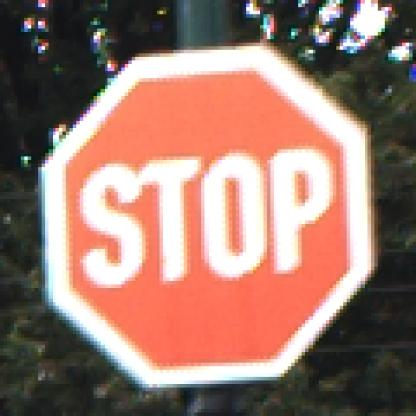stop: (25, 35, 395, 398)
